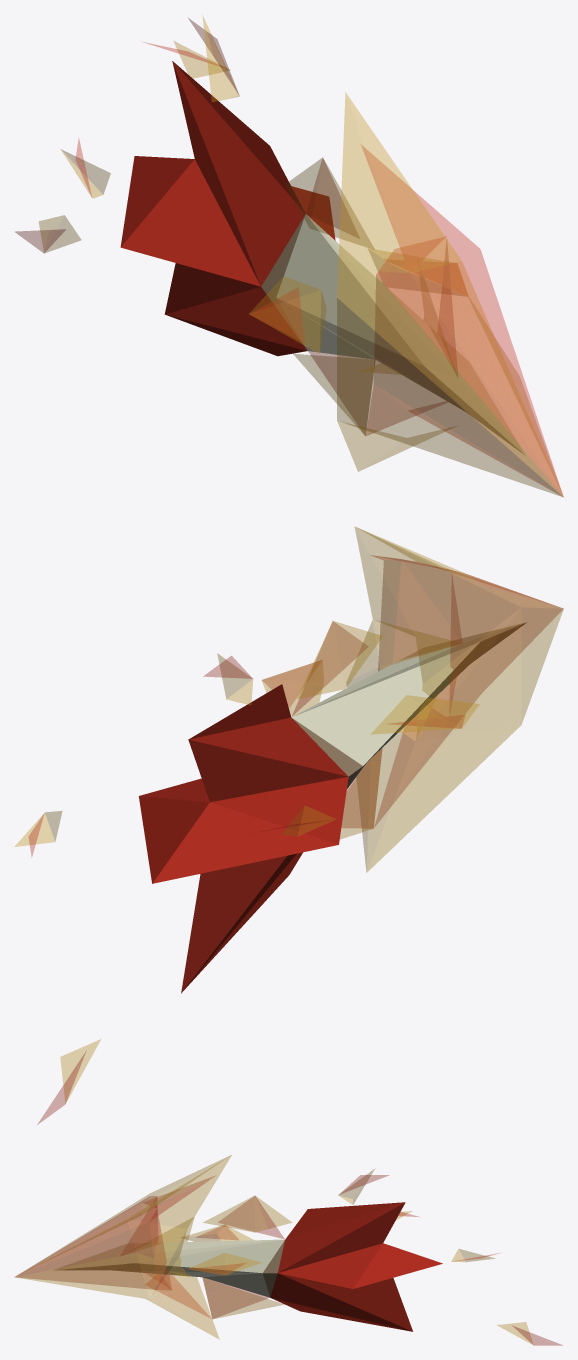
File: dragon_dart.glb
3 renders of one model, top to bottom at view 1: azimuth 30°, elevation 25°; view 2: azimuth 150°, elevation 25°; view 3: azimuth 270°, elevation 25°, orthographic. The views are drawn at different scales.
Size of the model in its own units: 17 by 27.99 by 72.99.
2 materials, 2 textured.
